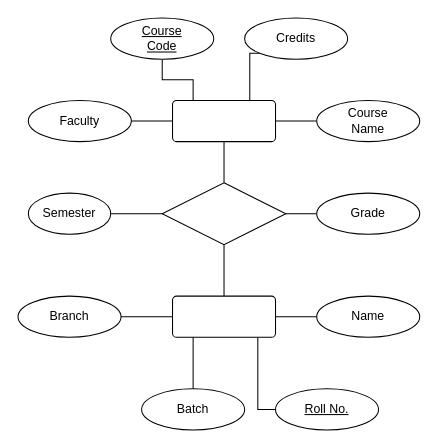
Image size: 438x448. Some labels were removed from this diagram. Each missing label, with the centre of its shape:
Course: point 223,120
Enrolled: point 223,213
Student: point 223,316
